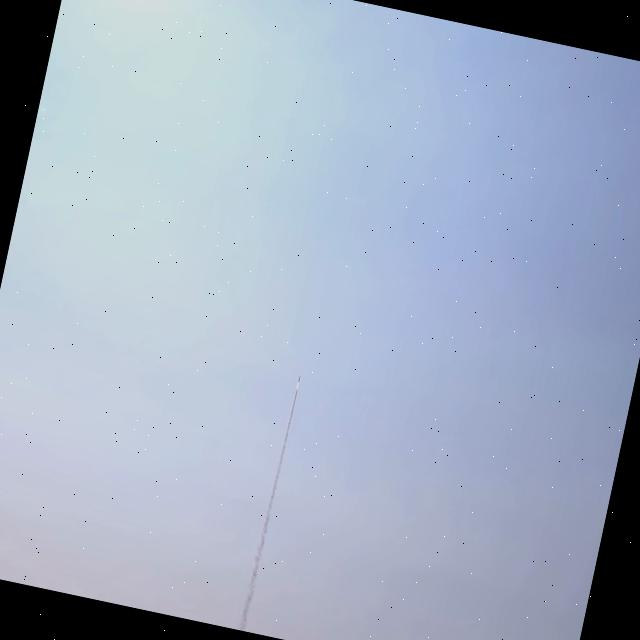smoke_trail_with_rocket: (237, 432, 289, 631)
